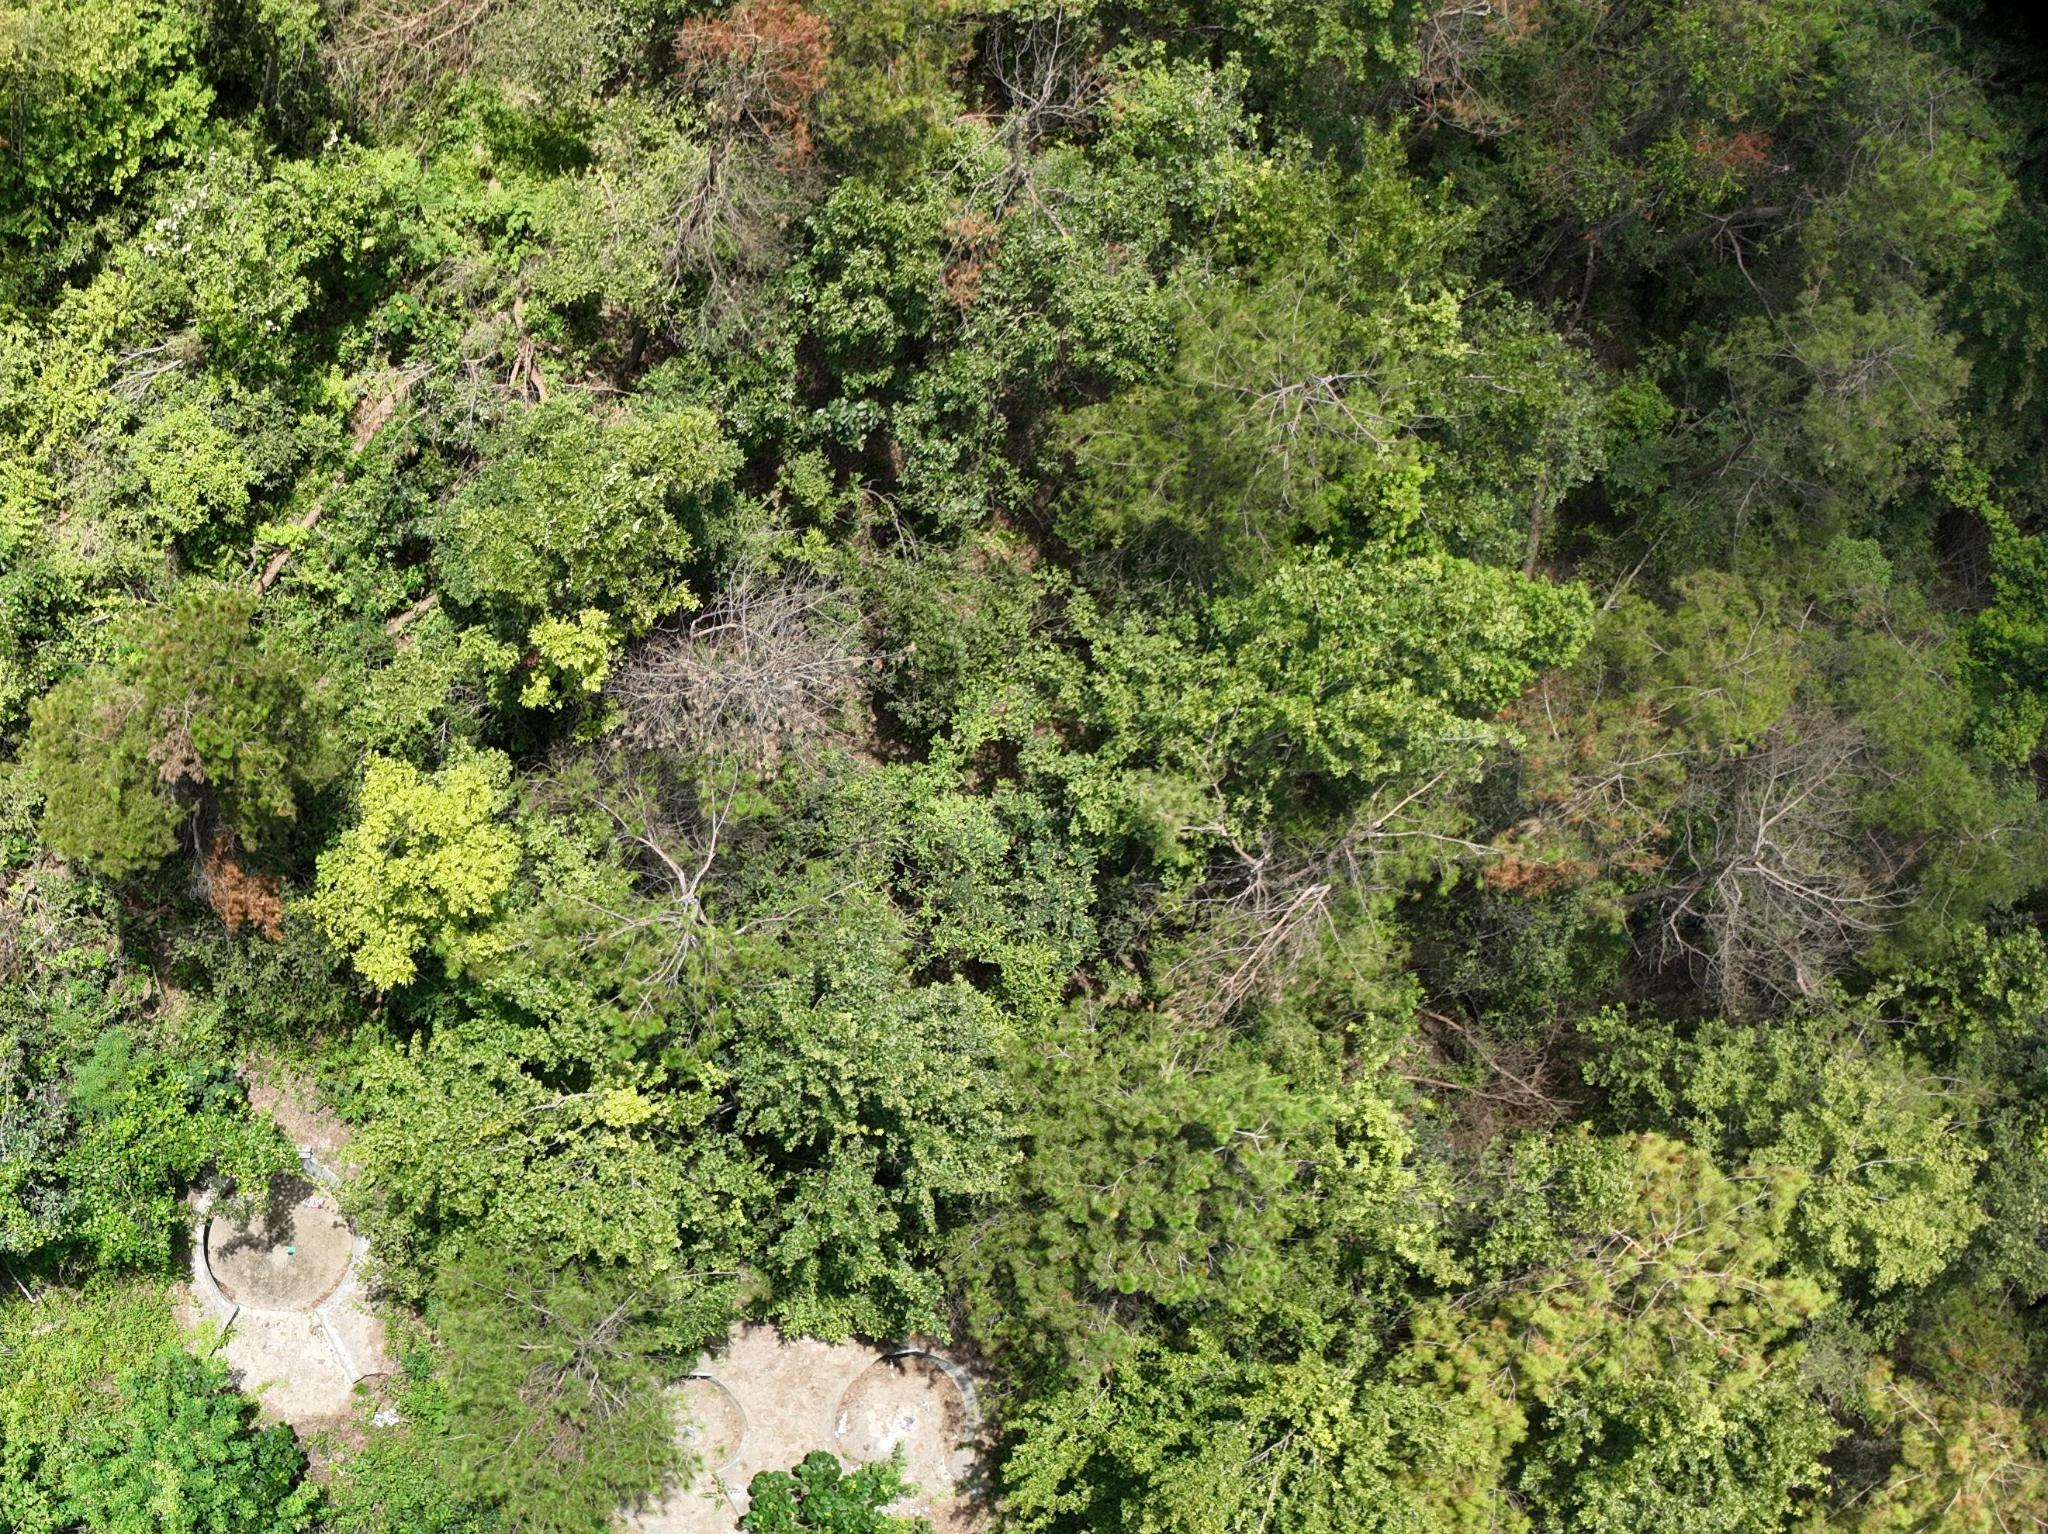dead: (612, 588, 880, 769)
heavy: (670, 3, 836, 153), (1418, 3, 1540, 132), (185, 846, 290, 951)
light: (1481, 674, 1700, 907), (95, 595, 269, 786), (1884, 1383, 2032, 1526)
